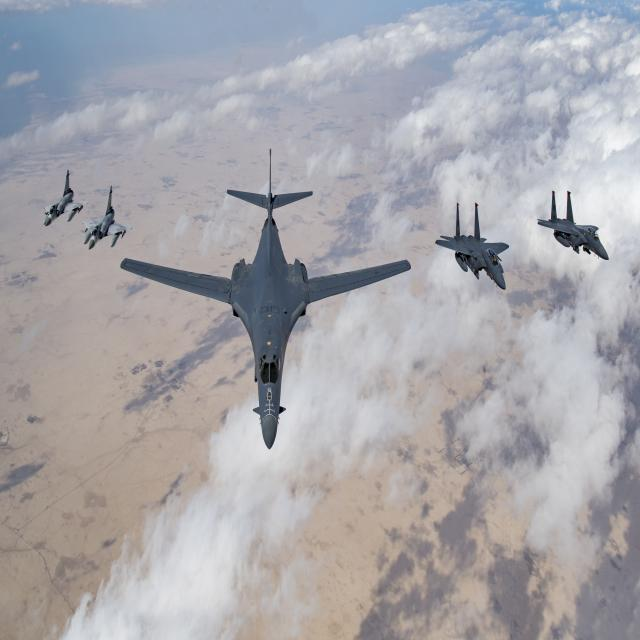MIL_Plane: (120, 149, 411, 449), (435, 195, 510, 298), (537, 190, 609, 260), (82, 185, 134, 250), (43, 170, 90, 227)
